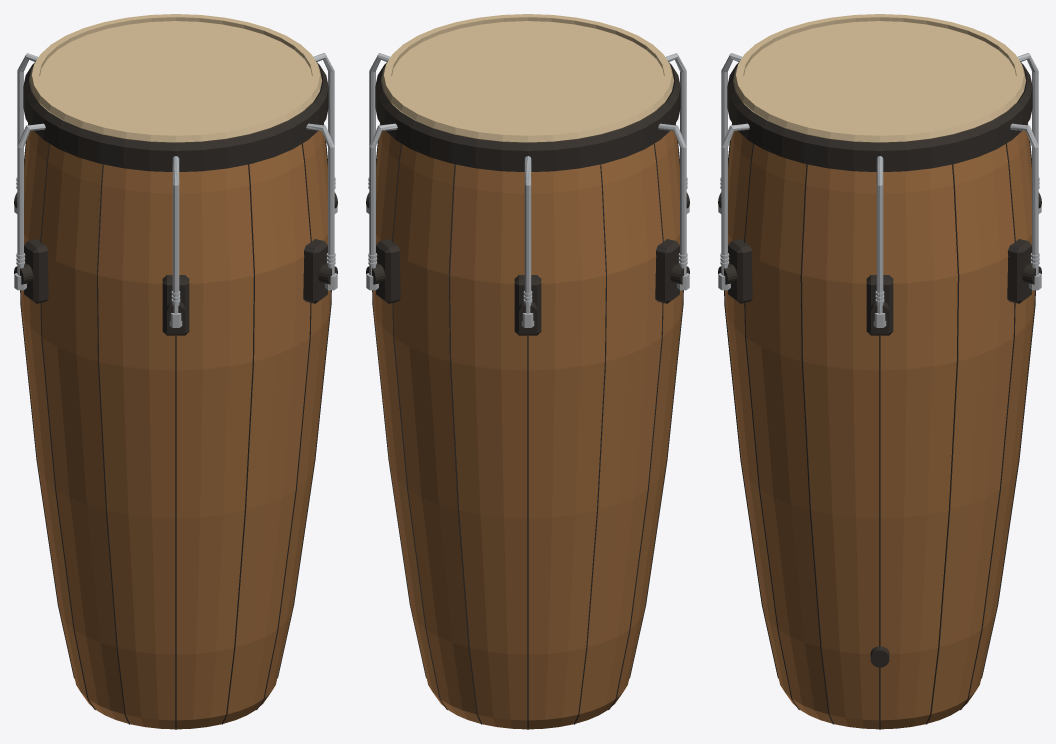
File: full.fbx
3 views of the same model, side by side, from view 1: azimuth 30°, elevation 25°; view 2: azimuth 150°, elevation 25°; view 3: azimuth 270°, elevation 25° (orthographic).
Parts seen in each view (by area): view 1: Open bottom hollow stave shell, Taut circular head, Thick dark tension hoop, Rolled skin edge, Angular side lug 3, Angular side lug 5, Hooked tension rod 4, Angular side lug 4, Hooked tension rod 3, Stave seam 9, Hooked tension rod 5, Stave seam 7 (+7 smaller); view 2: Open bottom hollow stave shell, Taut circular head, Thick dark tension hoop, Rolled skin edge, Angular side lug 1, Angular side lug 3, Hooked tension rod 2, Angular side lug 2, Hooked tension rod 3, Stave seam 3, Hooked tension rod 1, Stave seam 5 (+7 smaller); view 3: Open bottom hollow stave shell, Taut circular head, Thick dark tension hoop, Rolled skin edge, Angular side lug 1, Angular side lug 5, Hooked tension rod 0, Stave seam 1, Stave seam 11, Angular side lug 0, Hooked tension rod 1, Hooked tension rod 5 (+7 smaller).
Part boxes in pixels (<box>): Open bottom hollow stave shell: <box>21,95,330,729</box>; Taut circular head: <box>40,21,311,132</box>; Thick dark tension hoop: <box>23,61,328,171</box>; Rolled skin edge: <box>29,14,322,142</box>; Angular side lug 3: <box>24,239,48,303</box>; Angular side lug 5: <box>303,239,327,303</box>; Hooked tension rod 4: <box>172,156,179,313</box>; Angular side lug 4: <box>162,275,189,335</box>; Hooked tension rod 3: <box>17,123,45,275</box>; Stave seam 9: <box>222,164,254,724</box>; Hooked tension rod 5: <box>306,123,334,275</box>; Stave seam 7: <box>97,164,129,724</box>; Open bottom hollow stave shell: <box>373,95,682,729</box>; Taut circular head: <box>392,21,663,132</box>; Thick dark tension hoop: <box>375,61,680,171</box>; Rolled skin edge: <box>381,14,674,142</box>; Angular side lug 1: <box>376,239,400,303</box>; Angular side lug 3: <box>655,239,679,303</box>; Hooked tension rod 2: <box>524,156,531,313</box>; Angular side lug 2: <box>514,275,541,335</box>; Hooked tension rod 3: <box>658,123,686,275</box>; Stave seam 3: <box>449,164,481,724</box>; Hooked tension rod 1: <box>369,123,397,275</box>; Stave seam 5: <box>574,164,606,724</box>; Open bottom hollow stave shell: <box>725,95,1034,729</box>; Taut circular head: <box>744,21,1015,132</box>; Thick dark tension hoop: <box>727,61,1032,171</box>; Rolled skin edge: <box>733,14,1026,142</box>; Angular side lug 1: <box>1007,239,1031,303</box>; Angular side lug 5: <box>728,239,752,303</box>; Hooked tension rod 0: <box>876,156,883,313</box>; Stave seam 1: <box>926,164,959,724</box>; Stave seam 11: <box>800,164,833,724</box>; Angular side lug 0: <box>866,275,893,335</box>; Hooked tension rod 1: <box>1010,123,1038,275</box>; Hooked tension rod 5: <box>721,123,749,275</box>.
Bounding box in the file's own units: 34.64 × 63.64 × 30.33.
